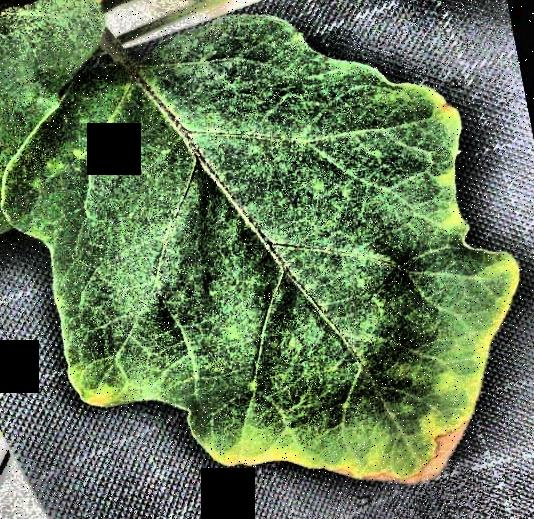Non-critical Stress: (0, 1, 534, 519)
